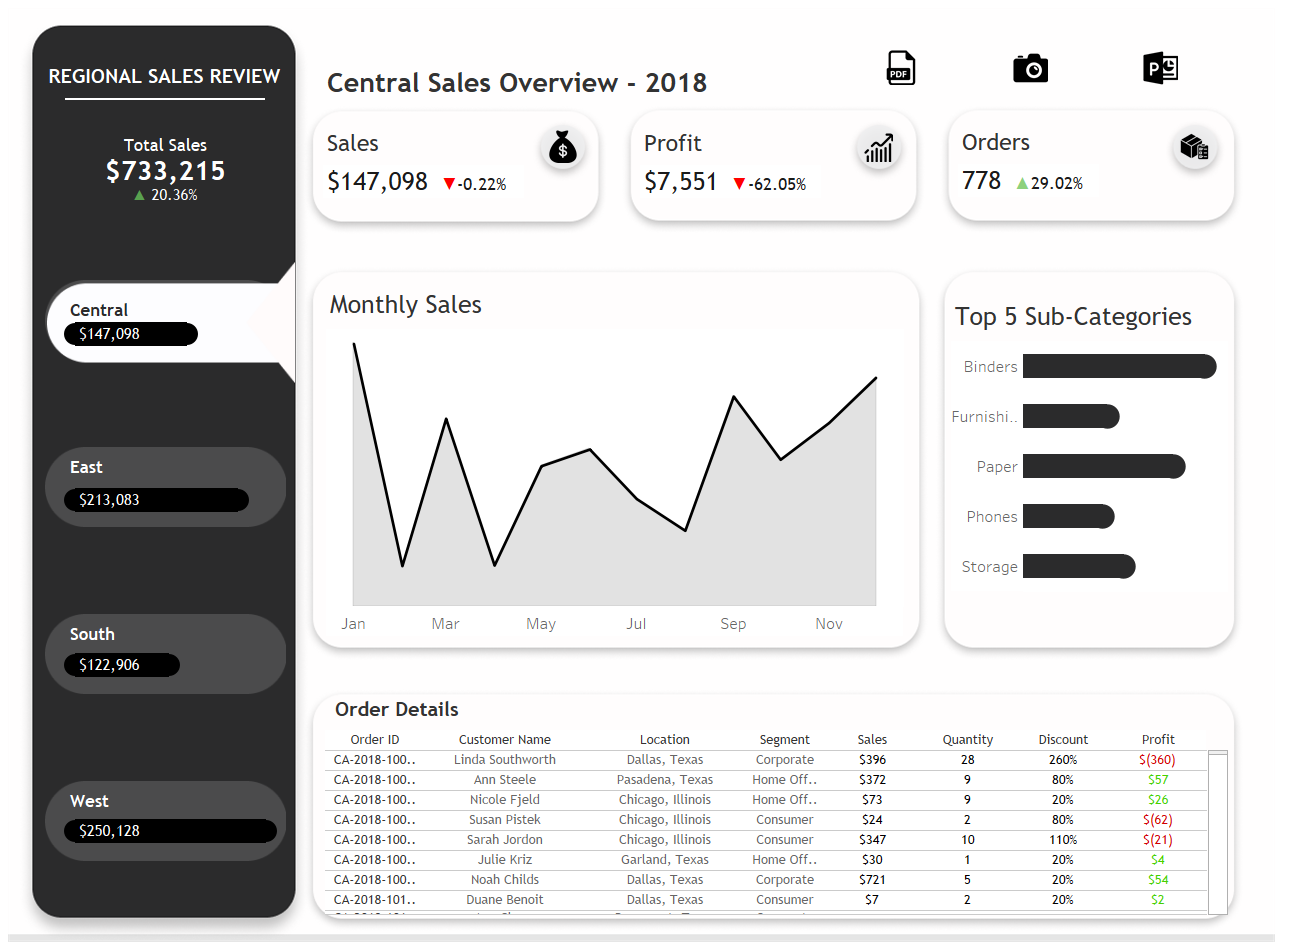

The dashboard page shown, as its layout file describes it:
{"tool":"tableau","page":{"name":"Regional Sales Analysis","canvas":[1300,950],"ordinal":0},"visuals":[{"type":"worksheet","box":[0,0,1300,950]},{"type":"worksheet","param":"Image/Black_White (2).png","box":[8,8,1284,934]},{"type":"worksheet","title":"Title","mark":"Shape","rows":["Region"],"box":[315,21,631,57]},{"type":"worksheet","param":"horz","box":[904,41,320,33]},{"type":"worksheet","box":[904,41,107,33]},{"type":"worksheet","box":[1011,41,107,33]},{"type":"worksheet","box":[1118,41,106,33]},{"type":"worksheet","box":[45,61,239,30]},{"type":"worksheet","box":[65,98,200,2]},{"type":"worksheet","title":"Total Sales 2018","mark":"Text","cols":["Calculation_4316137304595685383"],"box":[40,100,251,141]},{"type":"worksheet","title":"Orders Card","mark":"Text","box":[958,122,270,92]},{"type":"worksheet","title":"Sales Card","mark":"Text","box":[323,123,264,89]},{"type":"worksheet","title":"Profit Card","mark":"Text","box":[640,123,267,88]},{"type":"worksheet","param":"Image/money-bag-with-dollar-symbol.png","box":[544,130,37,33]},{"type":"worksheet","param":"Image/box.png","box":[1179,131,30,30]},{"type":"worksheet","param":"Image/profits.png","box":[864,132,29,31]},{"type":"worksheet","title":"Transperant Header","mark":"Shape","rows":["Region"],"box":[43,236,255,669]},{"type":"worksheet","title":"Regions","mark":"Shape","rows":["Region"],"box":[45,236,241,668]},{"type":"worksheet","title":"Selector Header","mark":"Shape","rows":["Region"],"box":[44,238,253,664]},{"type":"worksheet","title":"Sales Per Region","mark":"Bar","rows":["Region"],"cols":["Sales"],"box":[54,251,233,663]},{"type":"worksheet","title":"Monthly Sales","mark":"Line","rows":["Sales","Sales"],"cols":["Order Date"],"box":[326,284,577,352]},{"type":"worksheet","title":"Top 5 Sub-Categories","mark":"Bar","rows":["Sub-Category"],"cols":["Profit 2018 (copy)_4316137304621789201","Profit 2018 (copy)_4316137304621789201"],"box":[951,296,276,339]},{"type":"worksheet","title":"Order Details","mark":"Automatic","rows":["Order ID","Customer Name","Calculation_4316137304961146912","Segment"],"box":[325,691,903,224]}]}

Visuals, with their boxes in screenshot pixels (x1, y1, x2, y2), scaled from the page's 1300x950 canvas onto the 1300x950 screenshot:
worksheet: 0, 0, 1299, 949
worksheet: 8, 8, 1292, 942
"Title" worksheet (Shape marks): 315, 21, 946, 78
worksheet: 904, 41, 1224, 74
worksheet: 904, 41, 1011, 74
worksheet: 1011, 41, 1118, 74
worksheet: 1118, 41, 1224, 74
worksheet: 45, 61, 284, 91
worksheet: 65, 98, 265, 100
"Total Sales 2018" worksheet (Text marks): 40, 100, 291, 241
"Orders Card" worksheet (Text marks): 958, 122, 1228, 214
"Sales Card" worksheet (Text marks): 323, 123, 587, 212
"Profit Card" worksheet (Text marks): 640, 123, 907, 211
worksheet: 544, 130, 581, 163
worksheet: 1179, 131, 1209, 161
worksheet: 864, 132, 893, 163
"Transperant Header" worksheet (Shape marks): 43, 236, 298, 905
"Regions" worksheet (Shape marks): 45, 236, 286, 904
"Selector Header" worksheet (Shape marks): 44, 238, 297, 902
"Sales Per Region" worksheet (Bar marks): 54, 251, 287, 914
"Monthly Sales" worksheet (Line marks): 326, 284, 903, 636
"Top 5 Sub-Categories" worksheet (Bar marks): 951, 296, 1227, 635
"Order Details" worksheet: 325, 691, 1228, 915
